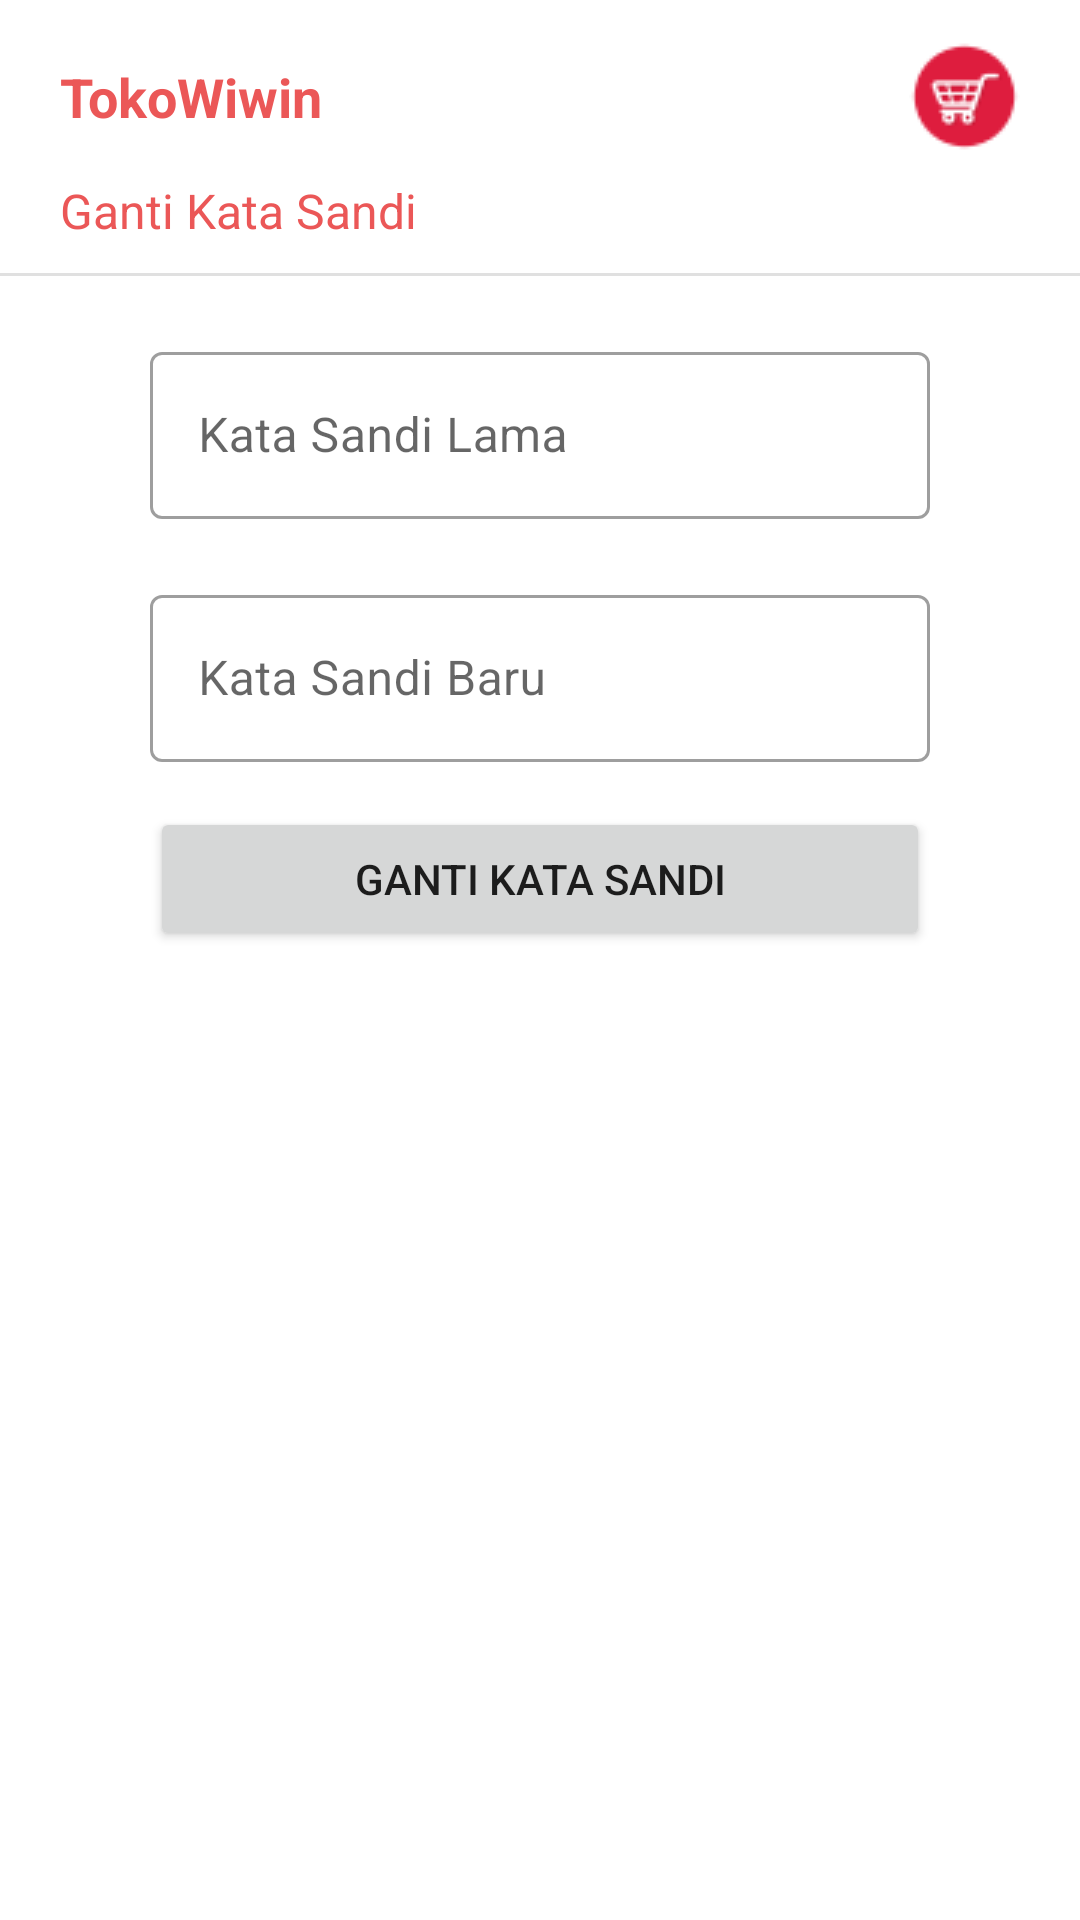

Icons on this 1080×1920 Android screen, each with its box as [x1,y1,x2,y2]:
cart: [912,44,1017,148]
